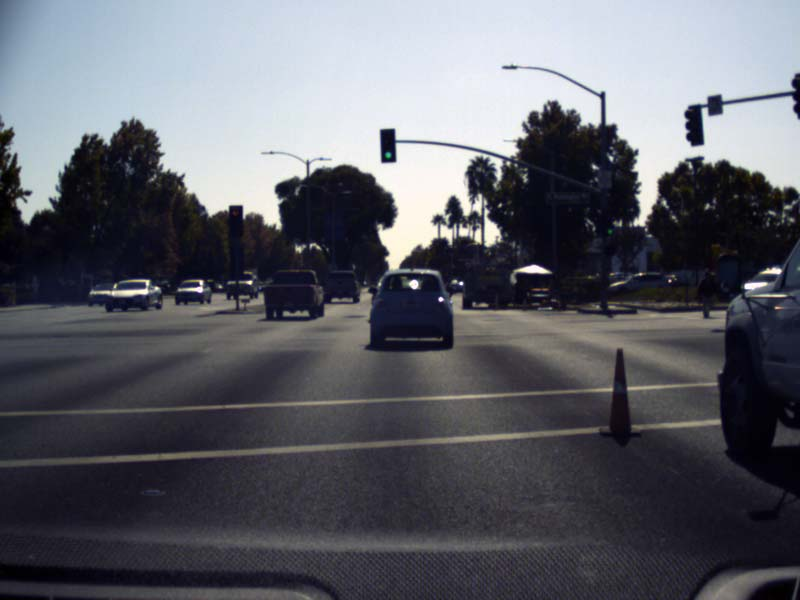Green: (381, 130, 395, 161), (604, 215, 612, 235)
Red: (230, 206, 241, 235)
